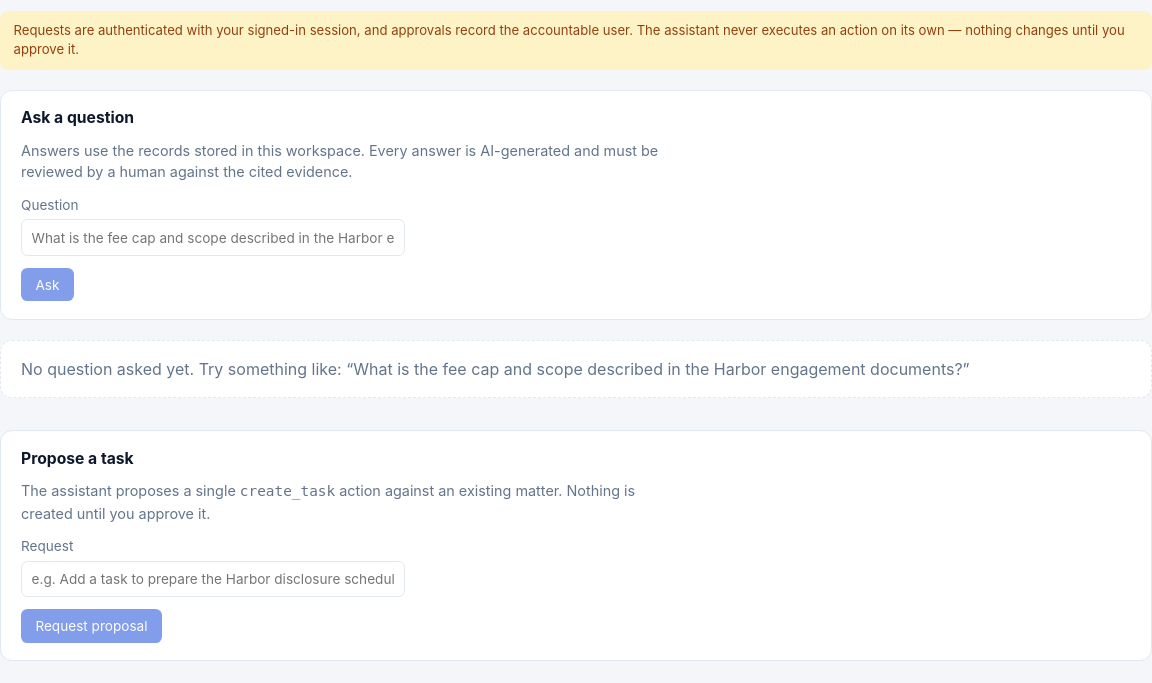
Test: AssistantPage › handles a 409 already-decided response and reflects persisted state
Step 1. Type "Add a task for Harbor" into the field labelled "Request" → (213, 579), box [21,561,405,598]
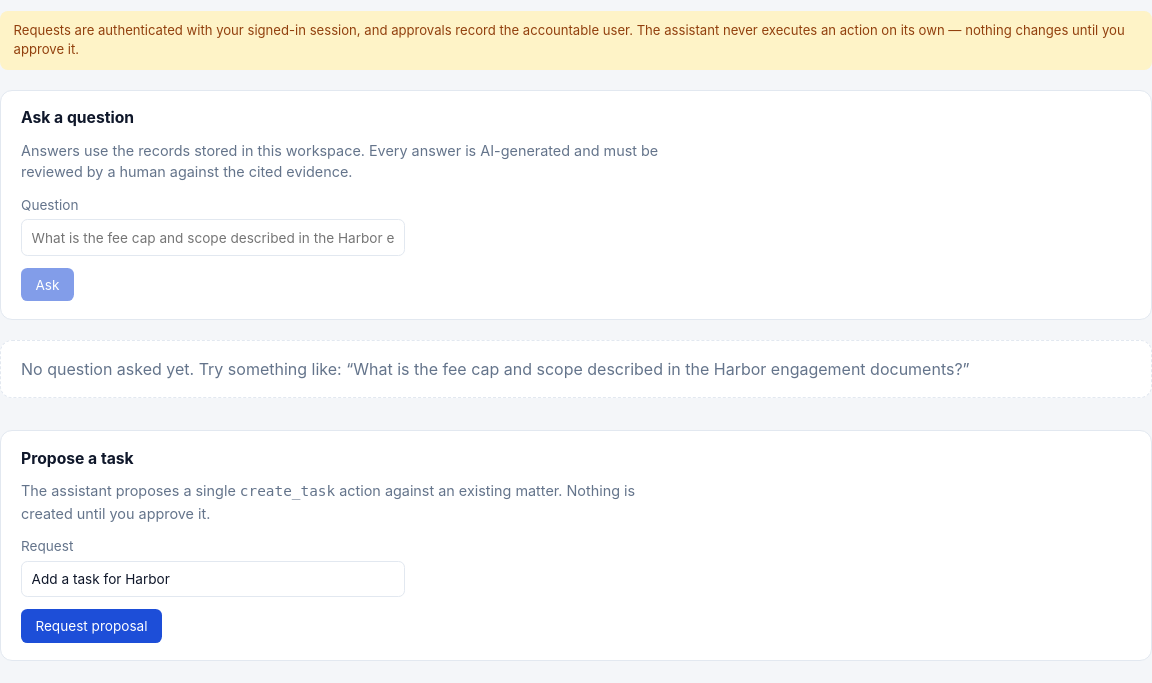
Step 2. Click the button "Request proposal" → (91, 626), box [21,610,162,643]
(page scrolled)
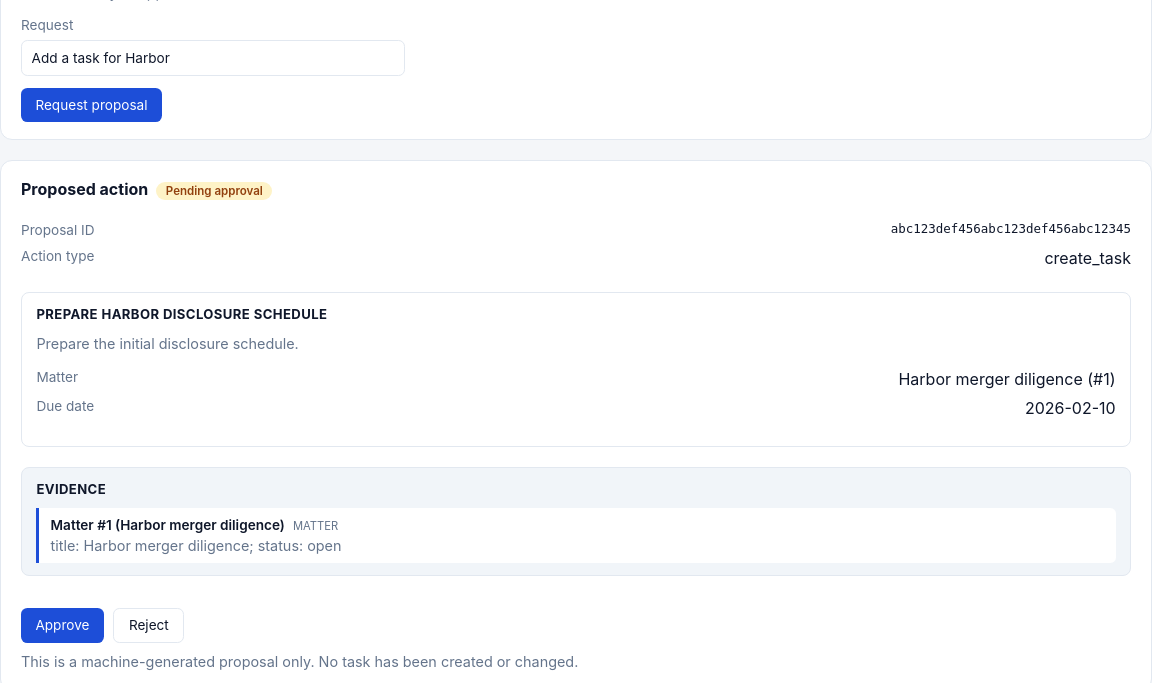
Check: the heading "Prepare Harbor disclosure schedule" is shown, box [36,306,327,322]
Step 3. Click the button "Approve" → (62, 626), box [21,608,104,643]
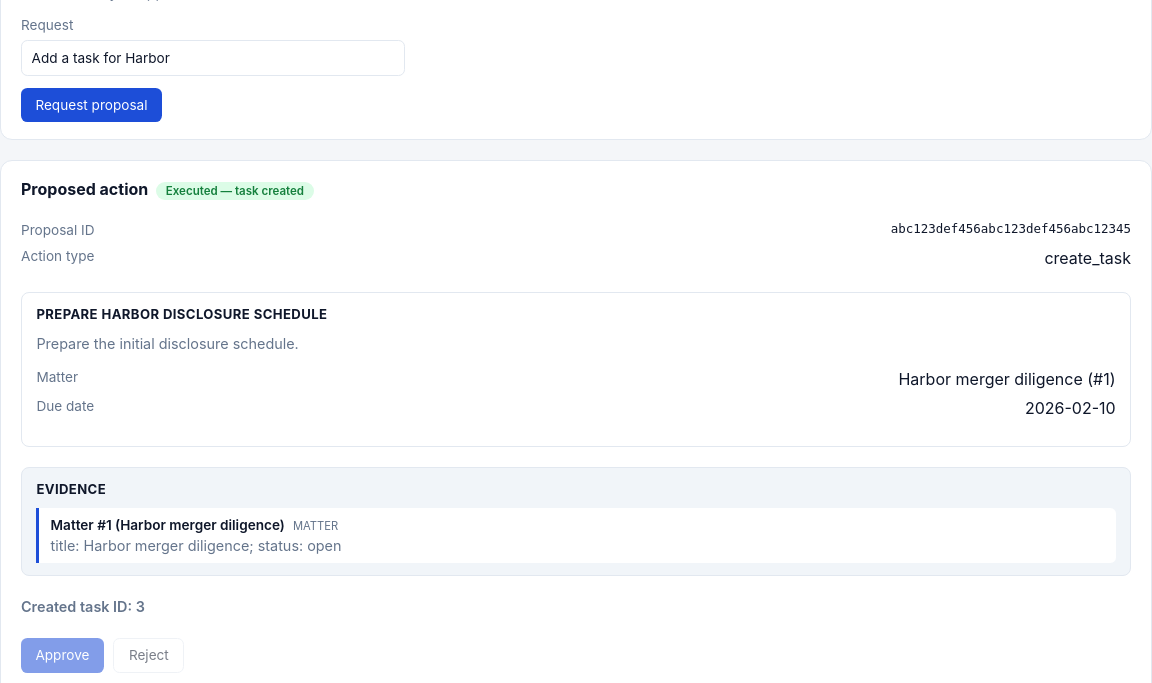
Check: the text "Created task ID: 3" is shown, box [21,598,145,615]
Check: the button "Approve" is disabled, box [21,638,104,673]
